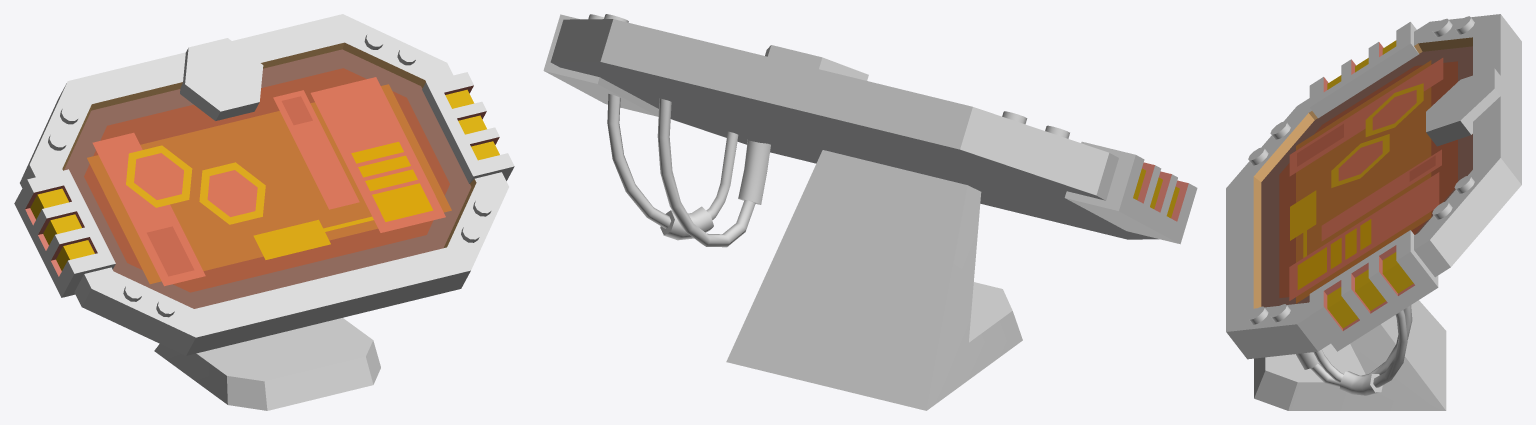
The model's file is herberPanel.glb.
The picture shows the model from 3 angles, left to right: view 1: azimuth 30°, elevation 25°; view 2: azimuth 150°, elevation 25°; view 3: azimuth 270°, elevation 25°; orthographic projection. The views are drawn at different scales.
Visible parts, largest first — view 1: herberPanel; view 2: herberPanel; view 3: herberPanel.
Boxes of the visible parts, x1,y1,x2,y2 form: herberPanel: [14, 14, 514, 410]; herberPanel: [543, 14, 1197, 410]; herberPanel: [1226, 14, 1521, 410].
Bounding box in the file's own units: 1.83 × 1.08 × 0.9926.
